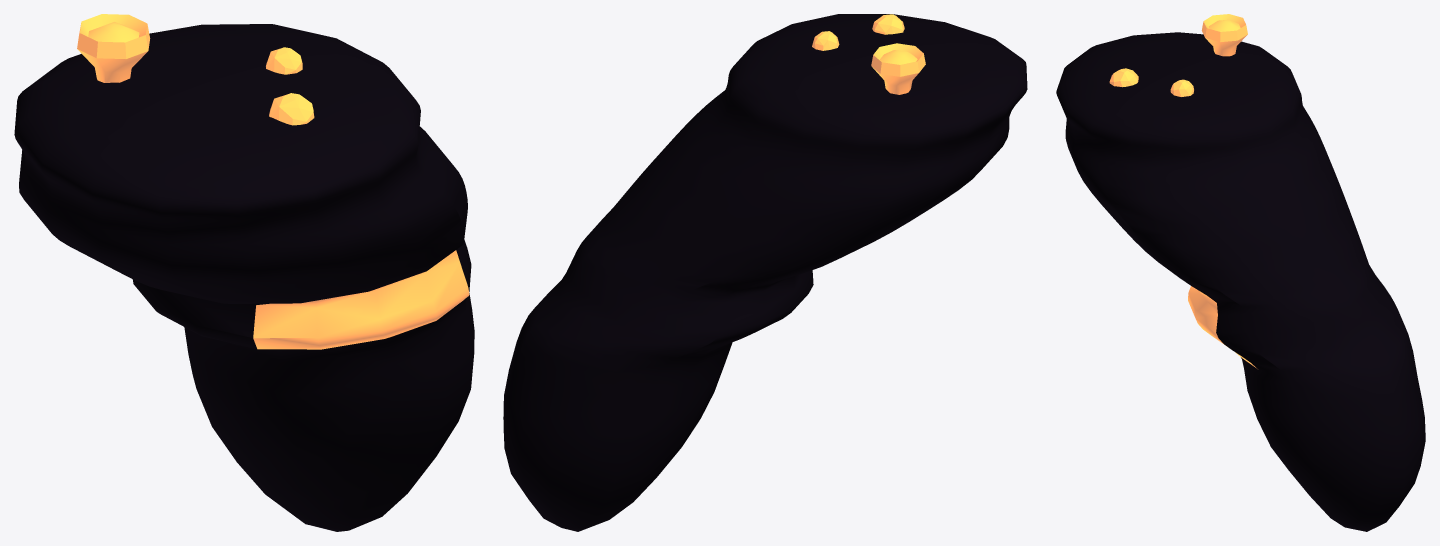
The model's file is RECHTS_orange.fbx.
The picture shows the model from 3 angles, left to right: view 1: azimuth 30°, elevation 25°; view 2: azimuth 150°, elevation 25°; view 3: azimuth 270°, elevation 25°; orthographic projection. The views are drawn at different scales.
Visible parts, largest first — view 1: Body, Joystick, Buttongroß, Buttonklein; view 2: Body, Joystick; view 3: Body, Joystick, Buttongroß.
Boxes of the visible parts, x1,y1,x2,y2 form: Body: (14,24,474,531); Joystick: (77,14,150,82); Buttongroß: (269,93,314,125); Buttonklein: (266,47,302,74); Body: (503,14,1027,531); Joystick: (871,43,925,94); Body: (1056,32,1425,531); Joystick: (1201,14,1247,56); Buttongroß: (1109,68,1138,87).
Size of the model in its own units: 12.84 by 14.99 by 12.34.
